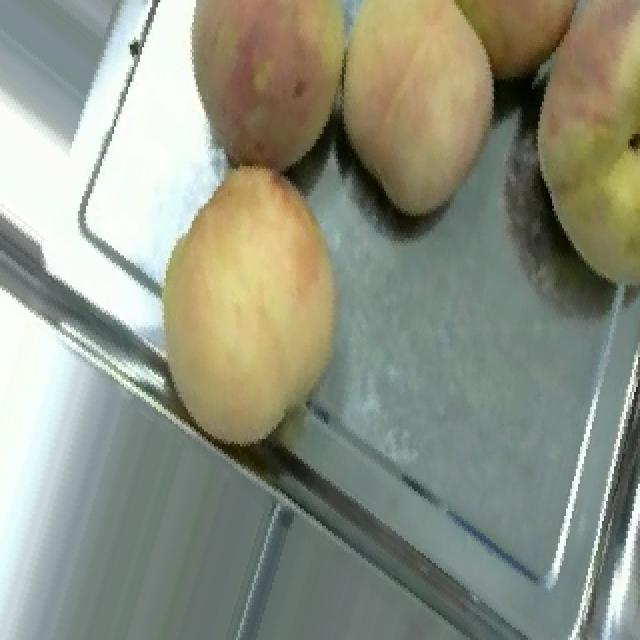Fruit: (122, 146, 370, 474), (486, 0, 640, 318), (340, 0, 526, 241), (158, 0, 346, 191)
